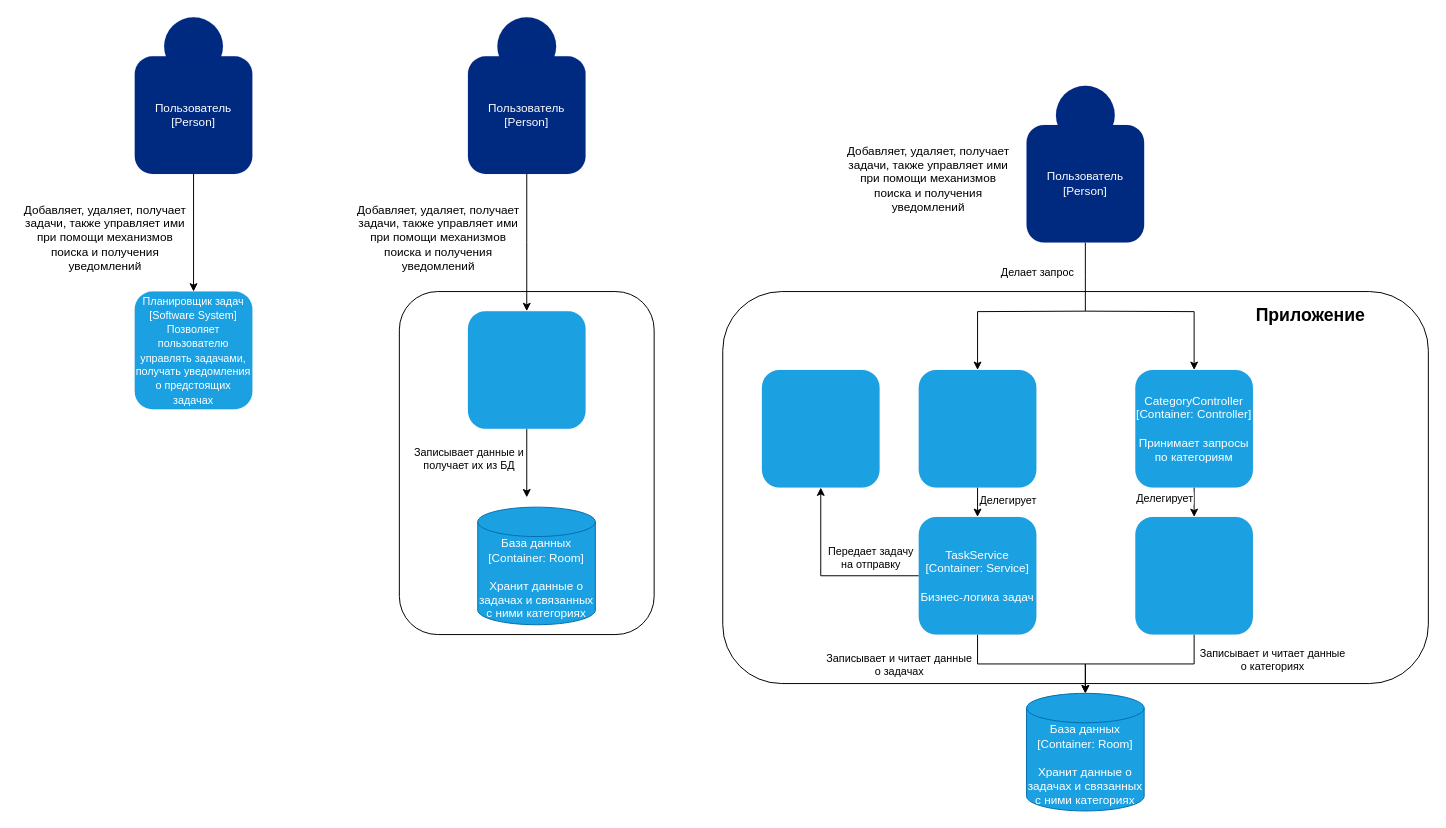
Image size: 1446x828. Some labels were removed from this diagram. The shapes that lost their labels are listed below. From the top down, each one's centre as x and y in pixels, then its label:
At [526,369]: "Приложение [Container: MVC] Пользовательский интерфейс".
At [820,428]: "NotificationSender [Container: Sender] Отправляет уведомления о задачах".
At [977,428]: "TaskController [Container: Controller] Принимает запросы по задачам".
At [1193,575]: "CategoryService [Container: Service] Бизнес-логика категорий".
